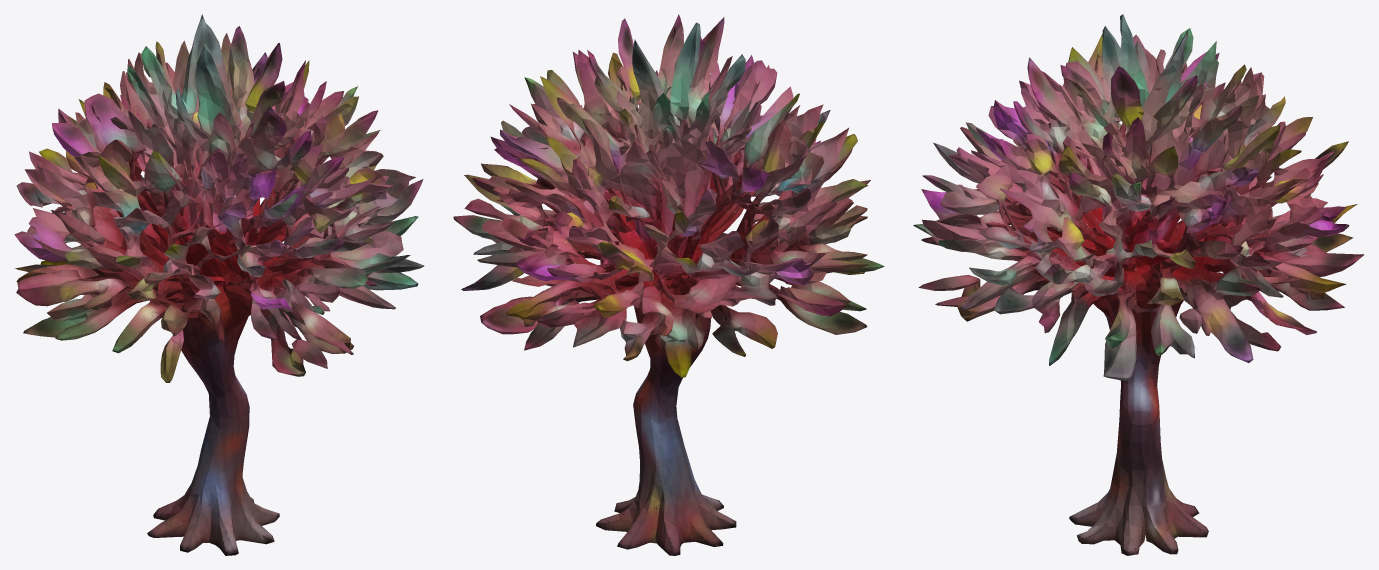
Rendered from tree.glb.
3 renders of one model, left to right at view 1: azimuth 30°, elevation 25°; view 2: azimuth 150°, elevation 25°; view 3: azimuth 270°, elevation 25°, orthographic. The views are drawn at different scales.
Visible parts, largest first — view 1: world; view 2: world; view 3: world.
Boxes of the visible parts, x1,y1,x2,y2 form: world: (14,14,424,555); world: (453,14,884,555); world: (913,14,1364,555).
Size of the model in its own units: 0.8025 by 0.9968 by 0.8056.
1 material, 1 textured.
